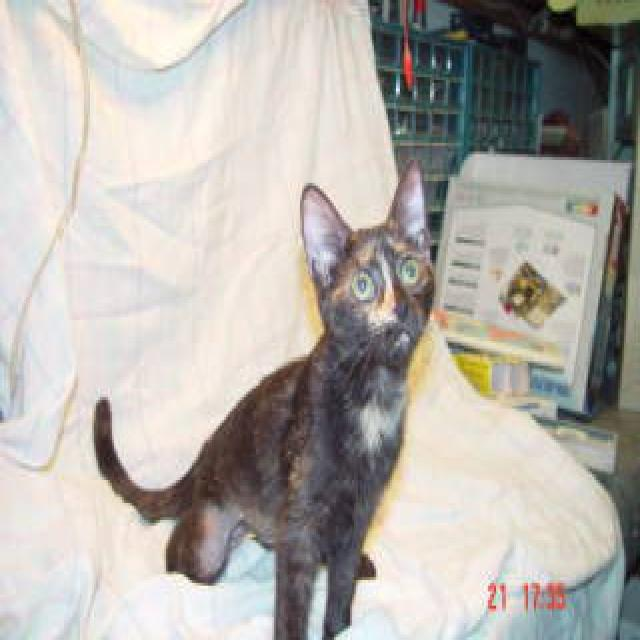Cats: (90, 157, 436, 637)
